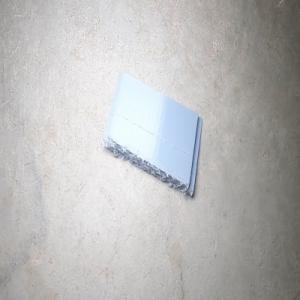PlasticPart: (101, 72, 202, 197)
